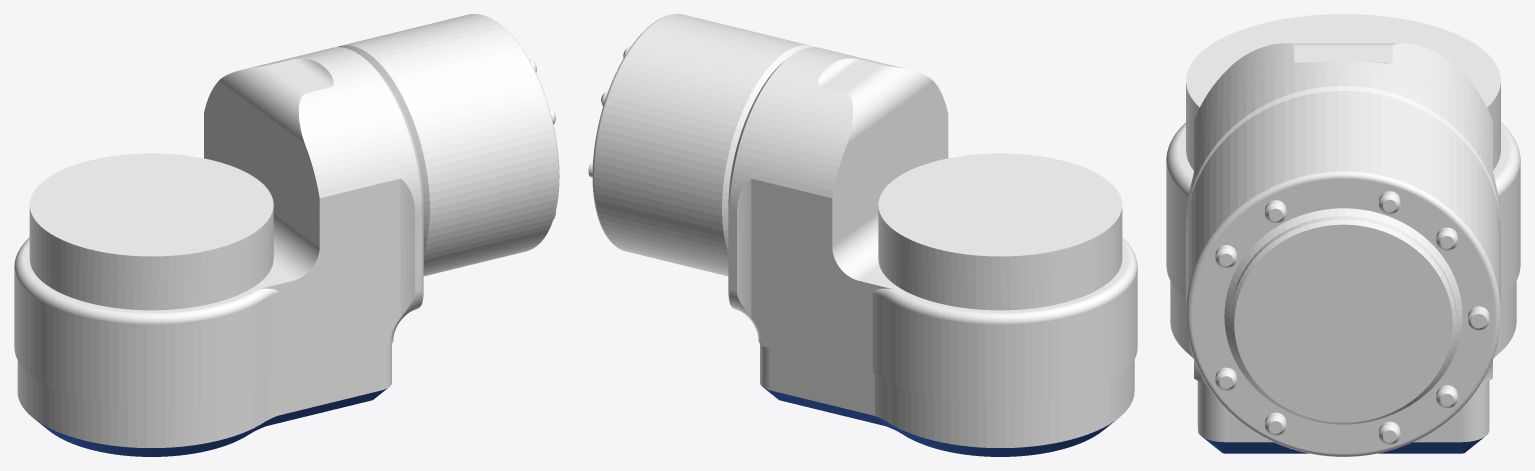
3 renders of one model, left to right at view 1: azimuth 30°, elevation 25°; view 2: azimuth 150°, elevation 25°; view 3: azimuth 270°, elevation 25°, orthographic. The views are drawn at different scales.
Parts seen in each view (by area): view 1: Link_B; view 2: Link_B; view 3: Link_B.
Boxes of the visible parts, x1=… form: Link_B: x1=14, y1=14, x2=559, y2=456; Link_B: x1=588, y1=14, x2=1137, y2=456; Link_B: x1=1166, y1=14, x2=1520, y2=456.
Size of the model in its own units: 0.1815 by 0.09 by 0.109.
1 material, 1 textured.
